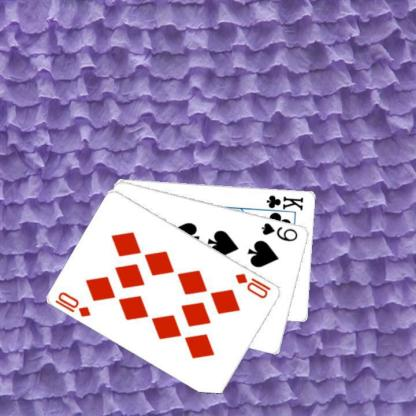10D: (233, 270, 272, 300), (52, 289, 92, 318)
9S: (259, 220, 299, 243)
KC: (260, 192, 304, 214)
